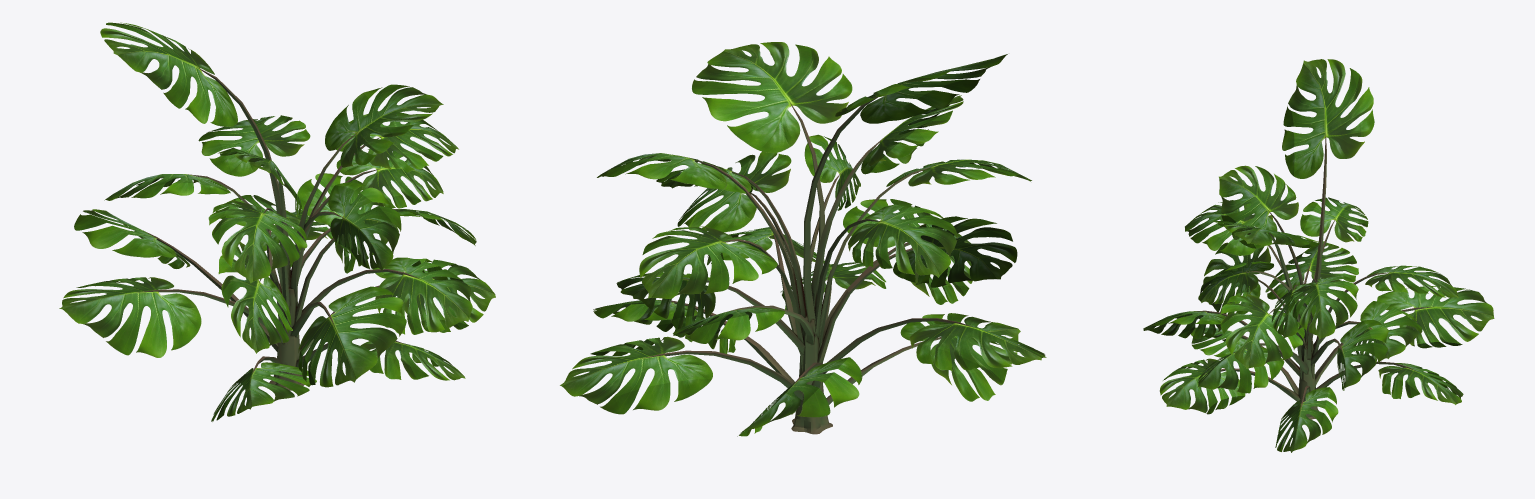
The model's file is monstera_1.glb.
The picture shows the model from 3 angles, left to right: view 1: azimuth 30°, elevation 25°; view 2: azimuth 150°, elevation 25°; view 3: azimuth 270°, elevation 25°; orthographic projection. The views are drawn at different scales.
Parts seen in each view (by area): view 1: tree.007SM_MZRa_Monstera_B072_MI_MZRa_Monstera_B07a1_0, tree.007SM_MZRa_Monstera_B072_MI_MZRa_Monstera_B07b_0; view 2: tree.007SM_MZRa_Monstera_B072_MI_MZRa_Monstera_B07a1_0, tree.007SM_MZRa_Monstera_B072_MI_MZRa_Monstera_B07b_0; view 3: tree.007SM_MZRa_Monstera_B072_MI_MZRa_Monstera_B07a1_0, tree.007SM_MZRa_Monstera_B072_MI_MZRa_Monstera_B07b_0.
Boxes of the visible parts, x1=… form: tree.007SM_MZRa_Monstera_B072_MI_MZRa_Monstera_B07a1_0: x1=59, y1=22, x2=495, y2=421; tree.007SM_MZRa_Monstera_B072_MI_MZRa_Monstera_B07b_0: x1=136, y1=67, x2=432, y2=390; tree.007SM_MZRa_Monstera_B072_MI_MZRa_Monstera_B07a1_0: x1=560, y1=42, x2=1046, y2=436; tree.007SM_MZRa_Monstera_B072_MI_MZRa_Monstera_B07b_0: x1=640, y1=97, x2=975, y2=434; tree.007SM_MZRa_Monstera_B072_MI_MZRa_Monstera_B07a1_0: x1=1143, y1=59, x2=1494, y2=452; tree.007SM_MZRa_Monstera_B072_MI_MZRa_Monstera_B07b_0: x1=1194, y1=133, x2=1433, y2=419.
Bounding box in the file's own units: 3.16 × 2.79 × 3.09.
Materials: 2 (2 with a texture image).
